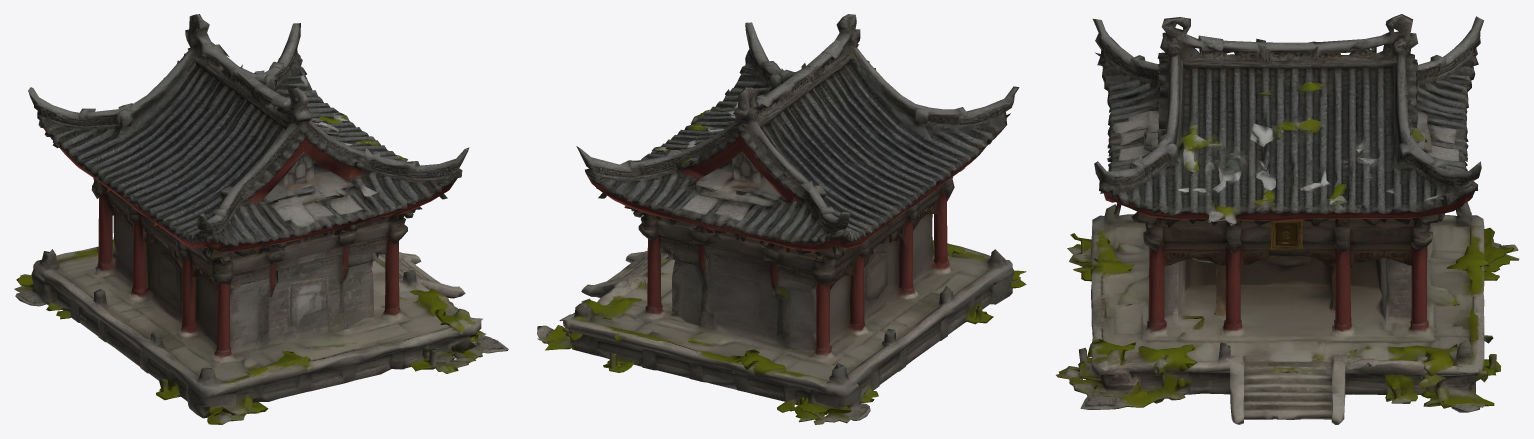
3 renders of one model, left to right at view 1: azimuth 30°, elevation 25°; view 2: azimuth 150°, elevation 25°; view 3: azimuth 270°, elevation 25°, orthographic. The views are drawn at different scales.
Parts seen in each view (by area): view 1: tripo_node_ef4c9f14-7846-46ab-a5ae-02aa08d8edaa; view 2: tripo_node_ef4c9f14-7846-46ab-a5ae-02aa08d8edaa; view 3: tripo_node_ef4c9f14-7846-46ab-a5ae-02aa08d8edaa.
Part boxes in pixels (x1,y1,x2,y2): tripo_node_ef4c9f14-7846-46ab-a5ae-02aa08d8edaa: (14,14,508,424); tripo_node_ef4c9f14-7846-46ab-a5ae-02aa08d8edaa: (537,14,1026,424); tripo_node_ef4c9f14-7846-46ab-a5ae-02aa08d8edaa: (1056,14,1519,424).
Bounding box in the file's own units: 0.951 × 0.7281 × 1.
Materials: 1 (1 with a texture image).
